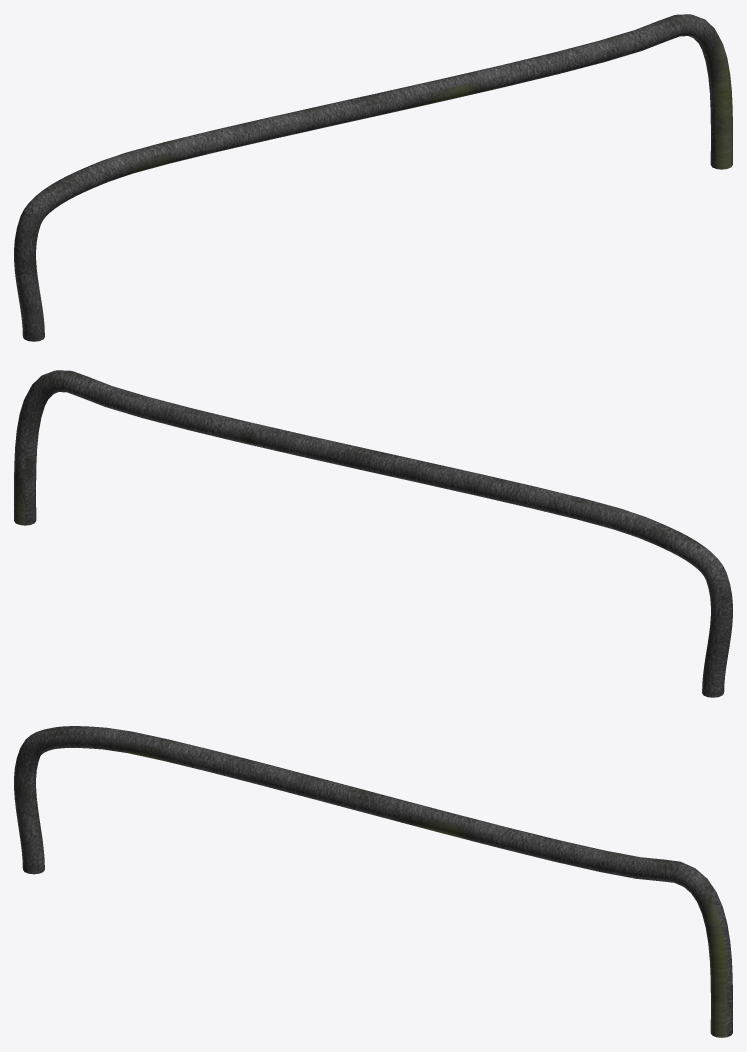
File: pipe_1.glb
3 views of the same model, one above another, from view 1: azimuth 30°, elevation 25°; view 2: azimuth 150°, elevation 25°; view 3: azimuth 330°, elevation 25° (orthographic).
Parts seen in each view (by area): view 1: BézierCurve.001; view 2: BézierCurve.001; view 3: BézierCurve.001.
Boxes of the visible parts, <box> form: BézierCurve.001: <box>14,14,732,341</box>; BézierCurve.001: <box>14,370,732,697</box>; BézierCurve.001: <box>14,726,732,1037</box>.
Size of the model in its own units: 4.49 by 0.9847 by 0.12.
Materials: 1 (1 with a texture image).
